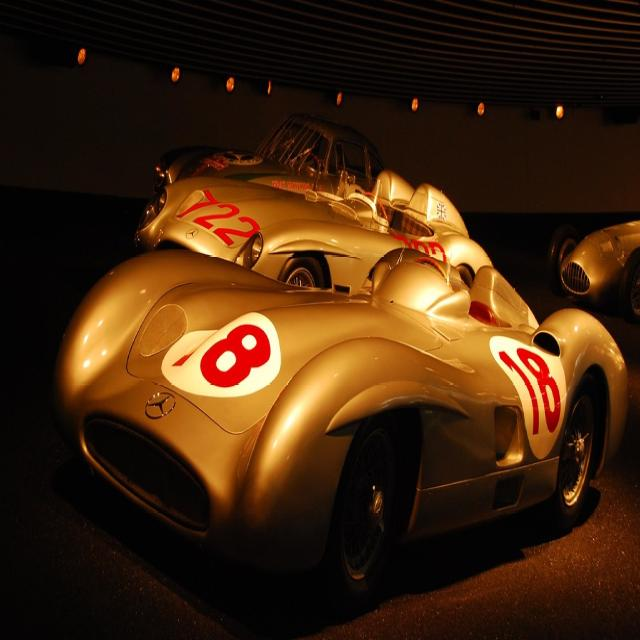car: (54, 243, 630, 609)
